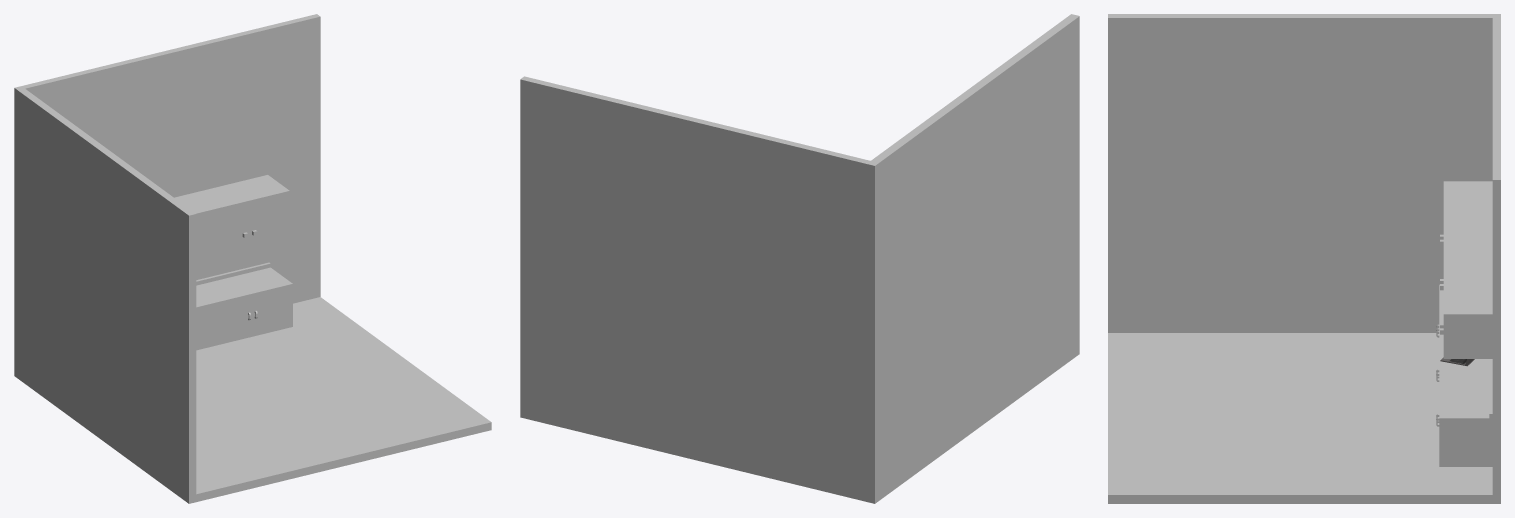
Rendered from LabScene.fbx.
The picture shows the model from 3 angles, left to right: view 1: azimuth 30°, elevation 25°; view 2: azimuth 150°, elevation 25°; view 3: azimuth 270°, elevation 25°; orthographic projection. The views are drawn at different scales.
Parts seen in each view (by area): view 1: Cube, Cabinet.002, UpCabinet003, Cabinet.001, UpCabinet.002; view 2: Cube; view 3: Cube, Cabinet.002, UpCabinet003, UpCabinet, UpCabinet.002, Cabinet.001.
Part boxes in pixels (x1=…): Cube: x1=14, y1=14, x2=491, y2=503; Cabinet.002: x1=196, y1=262, x2=292, y2=346; UpCabinet003: x1=187, y1=175, x2=289, y2=249; Cabinet.001: x1=196, y1=293, x2=211, y2=350; UpCabinet.002: x1=174, y1=194, x2=208, y2=253; Cube: x1=520, y1=14, x2=1079, y2=503; Cube: x1=1108, y1=14, x2=1500, y2=503; Cabinet.002: x1=1436, y1=369, x2=1492, y2=466; UpCabinet003: x1=1440, y1=270, x2=1492, y2=358; UpCabinet: x1=1440, y1=181, x2=1492, y2=245; UpCabinet.002: x1=1440, y1=225, x2=1492, y2=290; Cabinet.001: x1=1436, y1=329, x2=1492, y2=381.
Bounding box in the file's own units: 2000 × 1821 × 2000.
